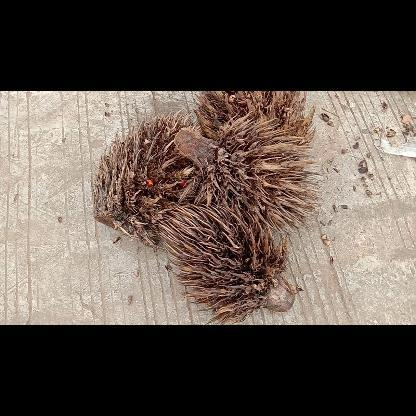Janjang kosong: (174, 110, 320, 232), (159, 204, 294, 324), (95, 110, 201, 248), (195, 91, 315, 143)
